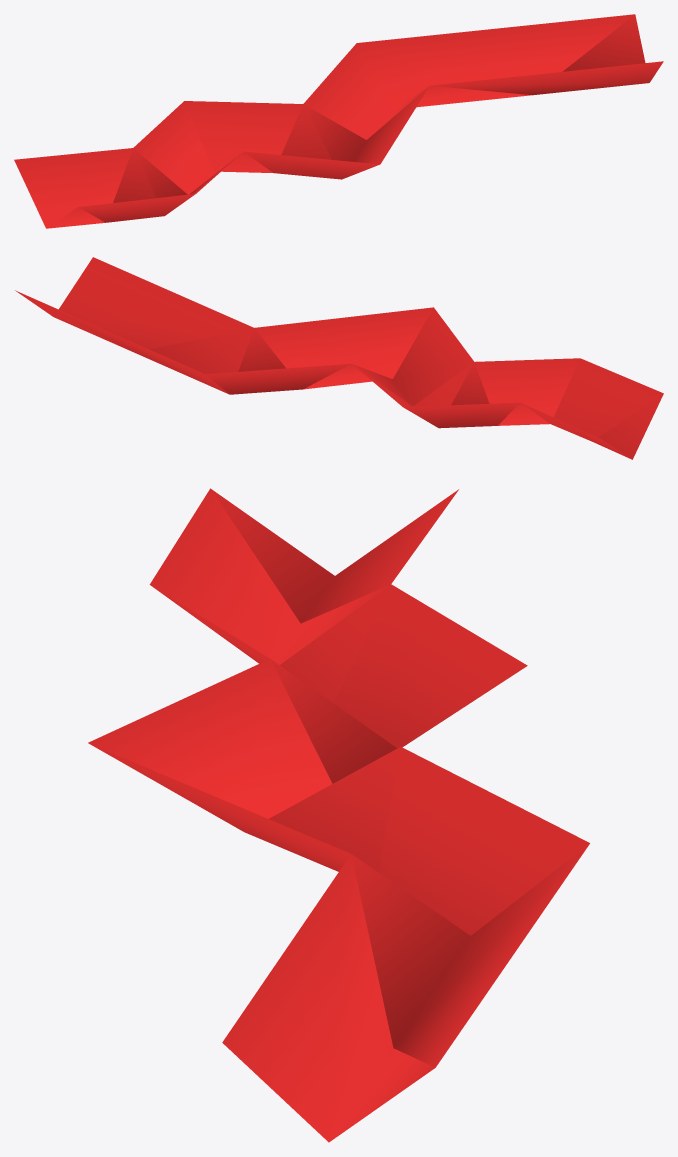
The model's file is VFX_Crack4.fbx.
3 renders of one model, top to bottom at view 1: azimuth 30°, elevation 25°; view 2: azimuth 150°, elevation 25°; view 3: azimuth 270°, elevation 25°, orthographic. The views are drawn at different scales.
Parts seen in each view (by area): view 1: polySurface1; view 2: polySurface1; view 3: polySurface1.
Boxes of the visible parts, x1,y1,x2,y2 form: polySurface1: [14, 14, 663, 228]; polySurface1: [15, 257, 663, 459]; polySurface1: [88, 488, 589, 1142].
Bounding box in the file's own units: 1750 × 123 × 642.
